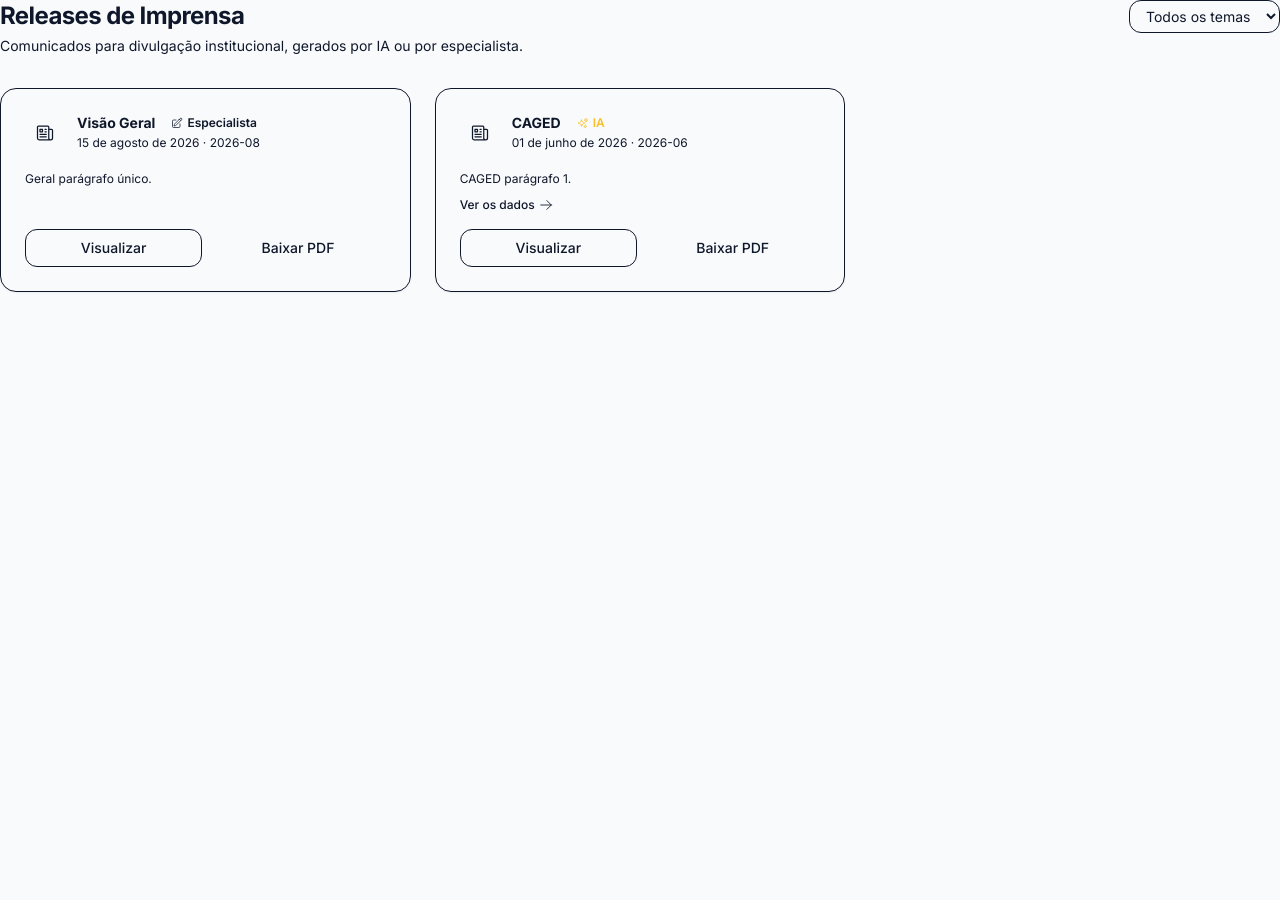
Test: ReleasesPage — copiar texto no modal › botão de copiar por parágrafo copia só aquele parágrafo e mostra feedback
Step 1. Click the button "Visualizar" below "Ver os dados" → (548, 248), box [460,228,637,266]
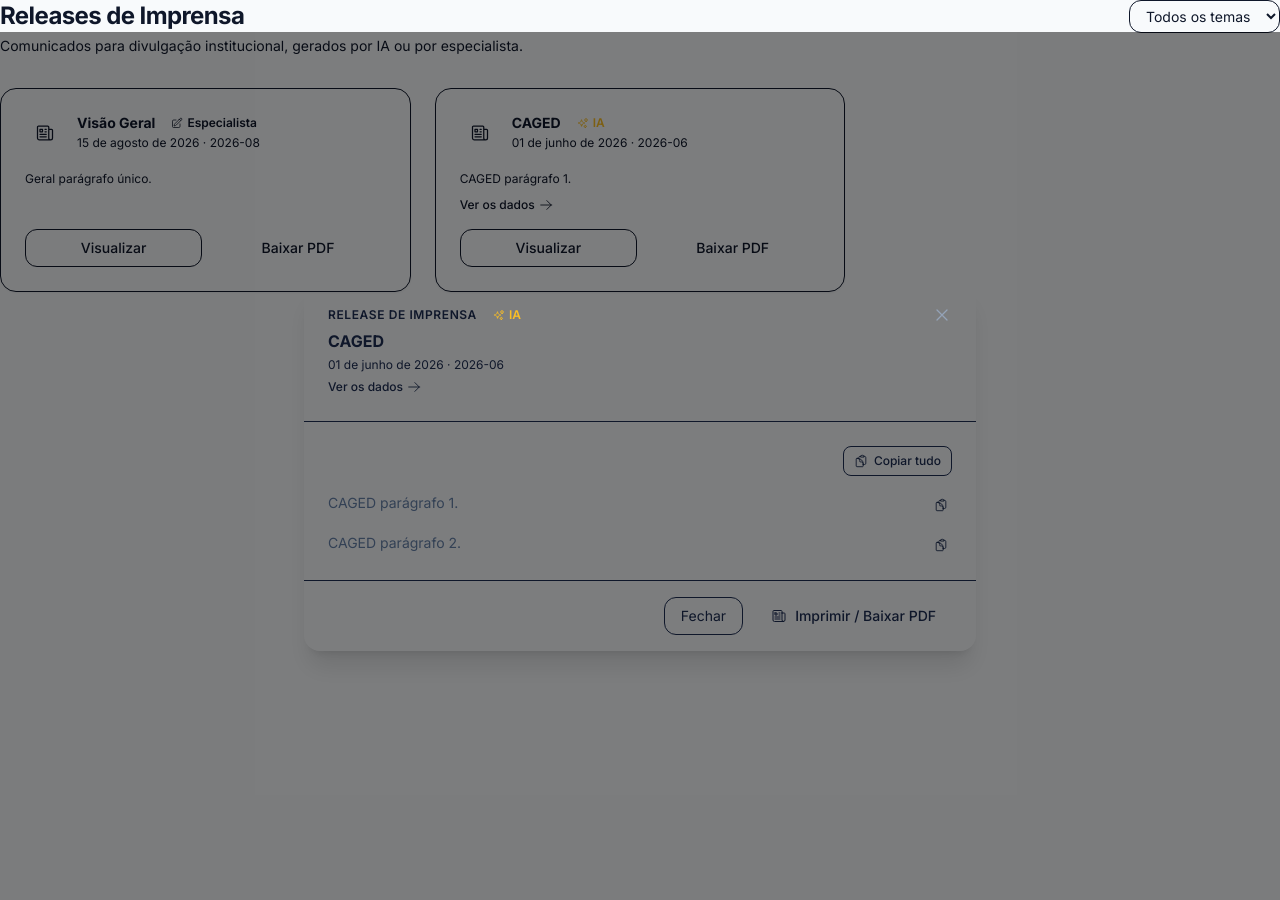
Step 2. Click the button named "Copiar parágrafo" in the row of "CAGED parágrafo 2." → (941, 545), box [930,534,952,556]
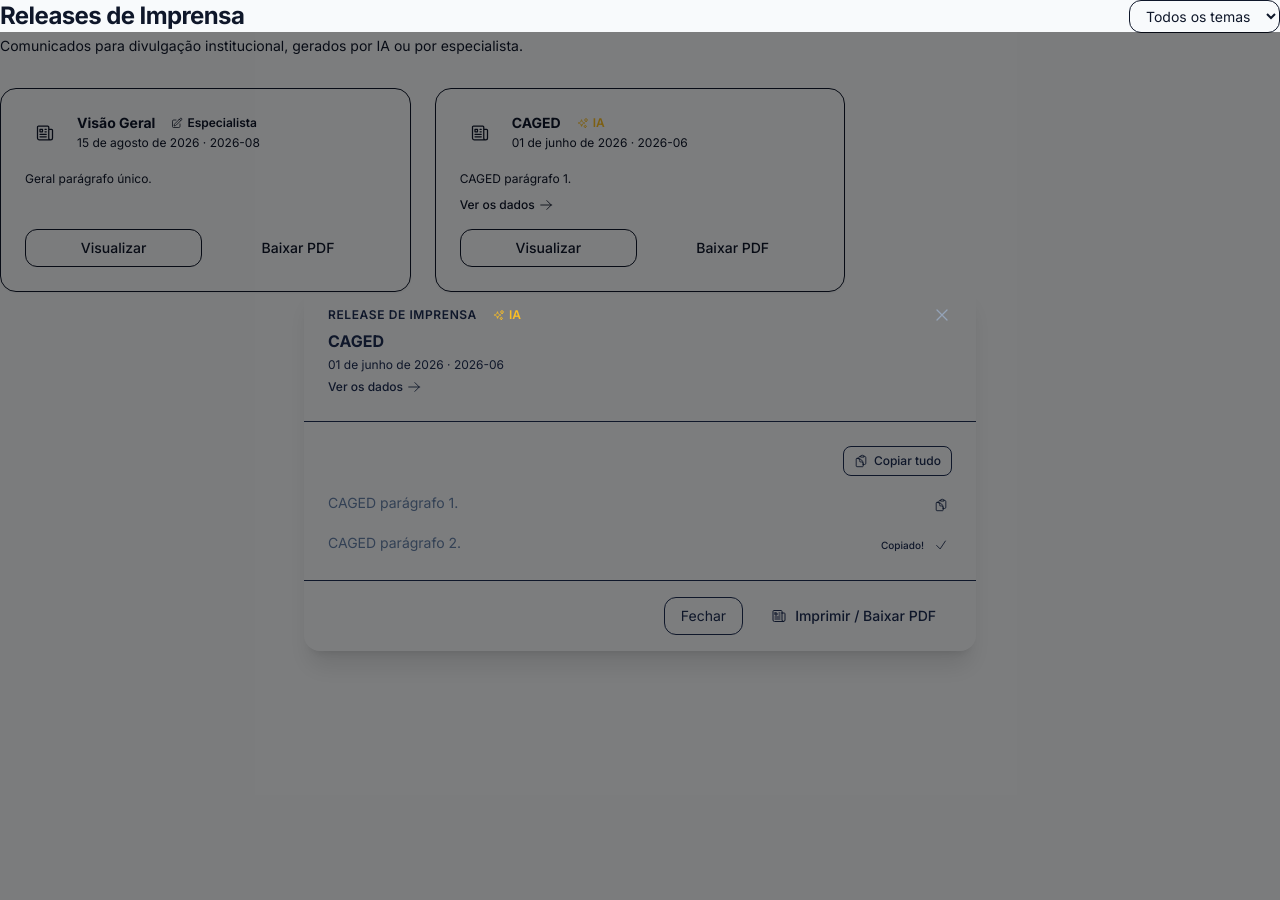
Now the text "Copiado!" is shown, box [881,538,924,552]
